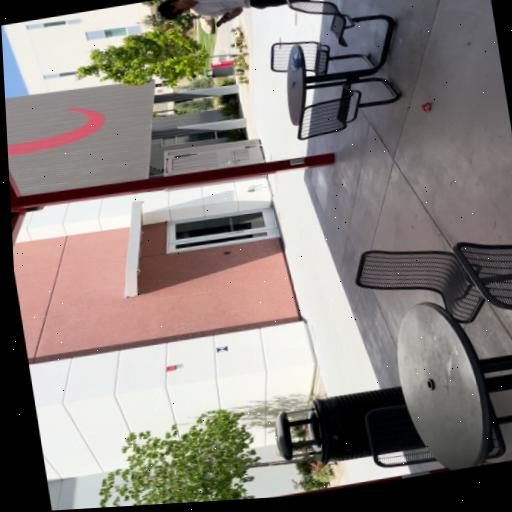target2: (216, 345, 228, 353)
